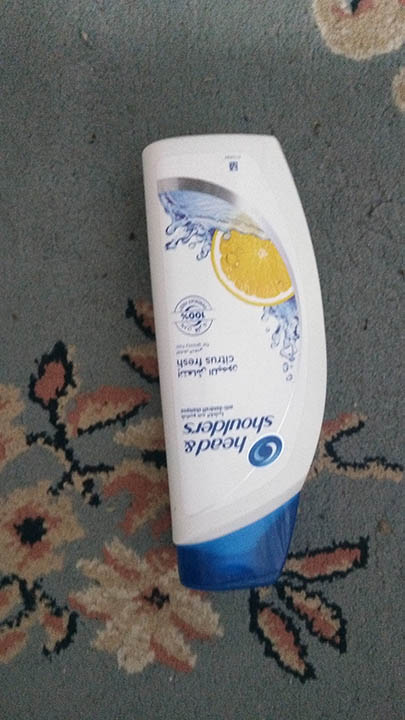shampoo-Lemon 3.5$: (136, 127, 329, 583)
